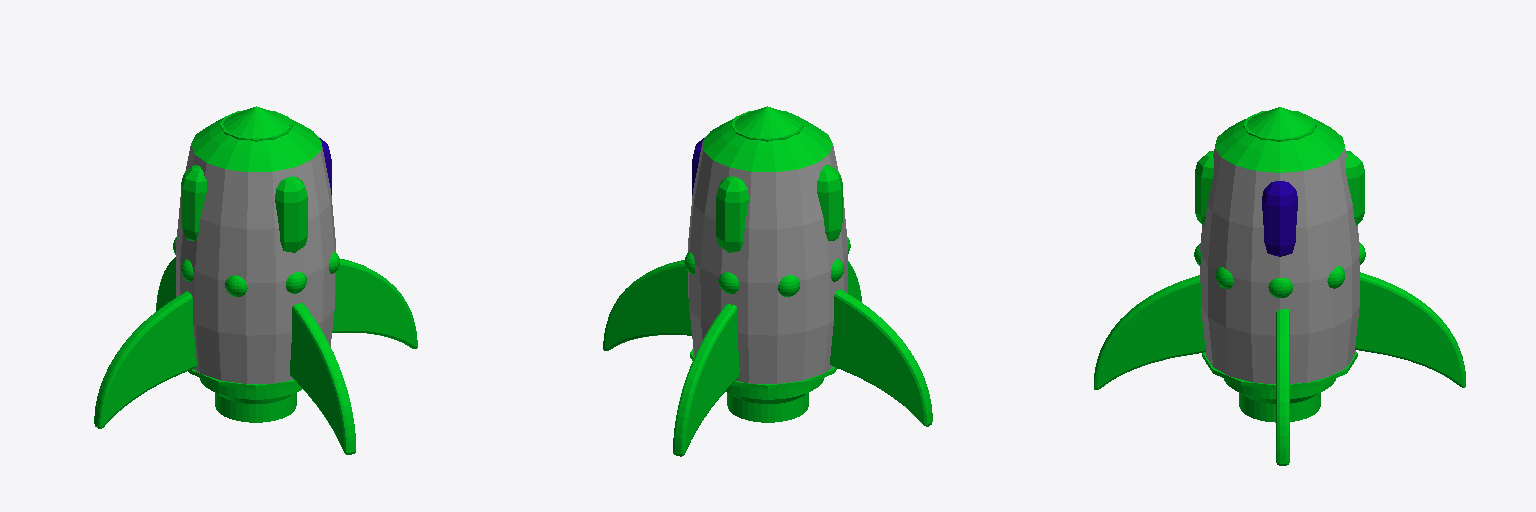
File: rocketmat2a.obj
3 renders of one model, left to right at view 1: azimuth 30°, elevation 25°; view 2: azimuth 150°, elevation 25°; view 3: azimuth 270°, elevation 25°, orthographic.
Parts seen in each view (by area): view 1: CUPIC_ROCKETSHIP.050, CUPIC_ROCKETSHIP, CUPIC_ROCKETSHIP.046, CUPIC_ROCKETSHIP.038, CUPIC_ROCKETSHIP.043, CUPIC_ROCKETSHIP.009, CUPIC_ROCKETSHIP.026, CUPIC_ROCKETSHIP.010, CUPIC_ROCKETSHIP.039, CUPIC_ROCKETSHIP.045, CUPIC_ROCKETSHIP.022, CUPIC_ROCKETSHIP.042 (+3 smaller); view 2: CUPIC_ROCKETSHIP.050, CUPIC_ROCKETSHIP, CUPIC_ROCKETSHIP.048, CUPIC_ROCKETSHIP.036, CUPIC_ROCKETSHIP.031, CUPIC_ROCKETSHIP.011, CUPIC_ROCKETSHIP.026, CUPIC_ROCKETSHIP.010, CUPIC_ROCKETSHIP.047, CUPIC_ROCKETSHIP.029, CUPIC_ROCKETSHIP.022, CUPIC_ROCKETSHIP.030 (+2 smaller); view 3: CUPIC_ROCKETSHIP.050, CUPIC_ROCKETSHIP, CUPIC_ROCKETSHIP.041, CUPIC_ROCKETSHIP.033, CUPIC_ROCKETSHIP.012, CUPIC_ROCKETSHIP.026, CUPIC_ROCKETSHIP.011, CUPIC_ROCKETSHIP.009, CUPIC_ROCKETSHIP.034, CUPIC_ROCKETSHIP.040, CUPIC_ROCKETSHIP.032, CUPIC_ROCKETSHIP.022 (+3 smaller).
Part boxes in pixels (bbox=[...]): CUPIC_ROCKETSHIP.050: bbox=[176, 142, 335, 383]; CUPIC_ROCKETSHIP: bbox=[191, 106, 320, 171]; CUPIC_ROCKETSHIP.046: bbox=[102, 298, 196, 426]; CUPIC_ROCKETSHIP.038: bbox=[332, 265, 415, 346]; CUPIC_ROCKETSHIP.043: bbox=[290, 308, 343, 450]; CUPIC_ROCKETSHIP.009: bbox=[275, 176, 307, 252]; CUPIC_ROCKETSHIP.026: bbox=[215, 392, 296, 422]; CUPIC_ROCKETSHIP.010: bbox=[181, 165, 206, 240]; CUPIC_ROCKETSHIP.039: bbox=[296, 303, 354, 454]; CUPIC_ROCKETSHIP.045: bbox=[98, 294, 196, 428]; CUPIC_ROCKETSHIP.022: bbox=[200, 378, 301, 399]; CUPIC_ROCKETSHIP.042: bbox=[290, 304, 348, 454]; CUPIC_ROCKETSHIP.050: bbox=[688, 142, 847, 383]; CUPIC_ROCKETSHIP: bbox=[703, 106, 832, 171]; CUPIC_ROCKETSHIP.048: bbox=[830, 296, 924, 423]; CUPIC_ROCKETSHIP.036: bbox=[605, 266, 691, 348]; CUPIC_ROCKETSHIP.031: bbox=[685, 310, 739, 452]; CUPIC_ROCKETSHIP.011: bbox=[716, 176, 748, 252]; CUPIC_ROCKETSHIP.026: bbox=[727, 392, 808, 422]; CUPIC_ROCKETSHIP.010: bbox=[817, 165, 842, 240]; CUPIC_ROCKETSHIP.047: bbox=[830, 292, 928, 426]; CUPIC_ROCKETSHIP.029: bbox=[674, 304, 733, 456]; CUPIC_ROCKETSHIP.022: bbox=[726, 378, 823, 399]; CUPIC_ROCKETSHIP.030: bbox=[680, 305, 739, 456]; CUPIC_ROCKETSHIP.050: bbox=[1200, 149, 1359, 383]; CUPIC_ROCKETSHIP: bbox=[1215, 107, 1344, 172]; CUPIC_ROCKETSHIP.041: bbox=[1097, 283, 1205, 387]; CUPIC_ROCKETSHIP.033: bbox=[1355, 280, 1462, 385]; CUPIC_ROCKETSHIP.012: bbox=[1262, 181, 1297, 256]; CUPIC_ROCKETSHIP.026: bbox=[1239, 392, 1320, 422]; CUPIC_ROCKETSHIP.011: bbox=[1346, 151, 1364, 225]; CUPIC_ROCKETSHIP.009: bbox=[1195, 151, 1213, 225]; CUPIC_ROCKETSHIP.034: bbox=[1280, 309, 1285, 465]; CUPIC_ROCKETSHIP.040: bbox=[1094, 278, 1205, 389]; CUPIC_ROCKETSHIP.032: bbox=[1355, 275, 1465, 387]; CUPIC_ROCKETSHIP.022: bbox=[1224, 378, 1335, 399].
Size of the model in its own units: 10.9 by 9.64 by 10.9.